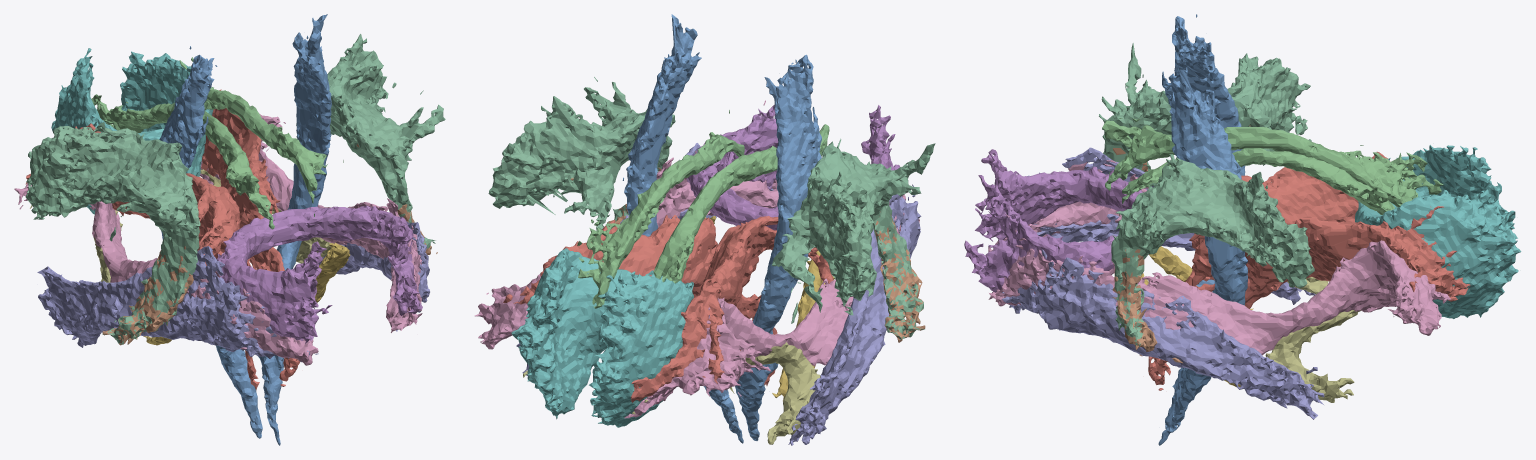
The model's file is tracts.glb.
3 renders of one model, left to right at view 1: azimuth 30°, elevation 25°; view 2: azimuth 150°, elevation 25°; view 3: azimuth 270°, elevation 25°, orthographic. The views are drawn at different scales.
Parts seen in each view (by area): view 1: Superior longitudinal fasciculus L, Forceps major, Inferior longitudinal fasciculus L, Superior longitudinal fasciculus R, Corticospinal tract R, Forceps minor, Corticospinal tract L, Inferior fronto-occipital fasciculus L, Anterior thalamic radiation R, Cingulum (cingulate gyrus) L, Inferior fronto-occipital fasciculus R, Cingulum (cingulate gyrus) R (+5 smaller); view 2: Forceps minor, Superior longitudinal fasciculus L, Superior longitudinal fasciculus R, Corticospinal tract L, Inferior fronto-occipital fasciculus L, Anterior thalamic radiation L, Inferior longitudinal fasciculus L, Corticospinal tract R, Cingulum (cingulate gyrus) R, Forceps major, Cingulum (cingulate gyrus) L, Inferior fronto-occipital fasciculus R (+4 smaller); view 3: Inferior fronto-occipital fasciculus R, Superior longitudinal fasciculus R, Inferior longitudinal fasciculus R, Forceps minor, Forceps major, Anterior thalamic radiation R, Corticospinal tract R, Superior longitudinal fasciculus L, Cingulum (cingulate gyrus) L, Anterior thalamic radiation L, Corticospinal tract L, Cingulum (cingulate gyrus) R (+5 smaller).
Boxes of the visible parts, x1=… form: Superior longitudinal fasciculus L: x1=25, y1=122, x2=200, y2=344; Forceps major: x1=217, y1=205, x2=422, y2=343; Inferior longitudinal fasciculus L: x1=37, y1=246, x2=318, y2=362; Superior longitudinal fasciculus R: x1=287, y1=34, x2=445, y2=248; Corticospinal tract R: x1=258, y1=14, x2=331, y2=445; Forceps minor: x1=51, y1=48, x2=213, y2=214; Corticospinal tract L: x1=159, y1=46, x2=262, y2=438; Inferior fronto-occipital fasciculus L: x1=14, y1=183, x2=318, y2=365; Anterior thalamic radiation R: x1=201, y1=89, x2=299, y2=386; Cingulum (cingulate gyrus) L: x1=91, y1=94, x2=274, y2=229; Inferior fronto-occipital fasciculus R: x1=200, y1=113, x2=422, y2=332; Cingulum (cingulate gyrus) R: x1=179, y1=57, x2=343, y2=216; Forceps minor: x1=511, y1=248, x2=693, y2=427; Superior longitudinal fasciculus L: x1=771, y1=138, x2=935, y2=339; Superior longitudinal fasciculus R: x1=488, y1=77, x2=675, y2=231; Corticospinal tract L: x1=735, y1=54, x2=821, y2=440; Inferior fronto-occipital fasciculus L: x1=624, y1=194, x2=919, y2=418; Anterior thalamic radiation L: x1=631, y1=216, x2=833, y2=402; Inferior longitudinal fasciculus L: x1=788, y1=184, x2=921, y2=445; Corticospinal tract R: x1=622, y1=14, x2=743, y2=443; Cingulum (cingulate gyrus) R: x1=577, y1=110, x2=744, y2=308; Forceps major: x1=686, y1=105, x2=899, y2=230; Cingulum (cingulate gyrus) L: x1=653, y1=124, x2=829, y2=283; Inferior fronto-occipital fasciculus R: x1=474, y1=100, x2=778, y2=349; Inferior fronto-occipital fasciculus R: x1=988, y1=214, x2=1451, y2=355; Superior longitudinal fasciculus R: x1=1111, y1=154, x2=1314, y2=346; Inferior longitudinal fasciculus R: x1=1002, y1=249, x2=1324, y2=419; Forceps minor: x1=1355, y1=145, x2=1521, y2=318; Forceps major: x1=964, y1=149, x2=1148, y2=292; Anterior thalamic radiation R: x1=1148, y1=206, x2=1470, y2=390; Corticospinal tract R: x1=1158, y1=67, x2=1247, y2=445; Superior longitudinal fasciculus L: x1=1099, y1=43, x2=1311, y2=172; Cingulum (cingulate gyrus) L: x1=1102, y1=118, x2=1443, y2=207; Anterior thalamic radiation L: x1=1166, y1=151, x2=1390, y2=375; Corticospinal tract L: x1=1162, y1=14, x2=1245, y2=428; Cingulum (cingulate gyrus) R: x1=1109, y1=148, x2=1414, y2=215.
Size of the model in its own units: 6.03 by 6.6 by 8.24.
